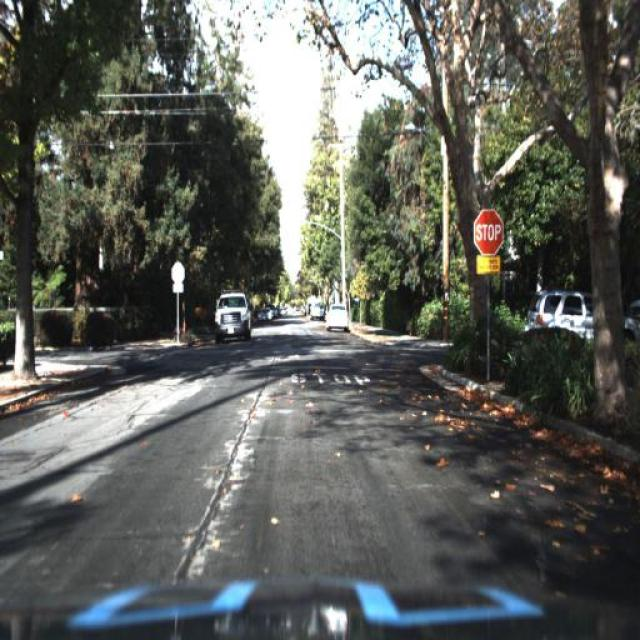car: (526, 283, 639, 362), (534, 287, 630, 351), (209, 286, 255, 350), (322, 298, 352, 338), (327, 304, 348, 331)
